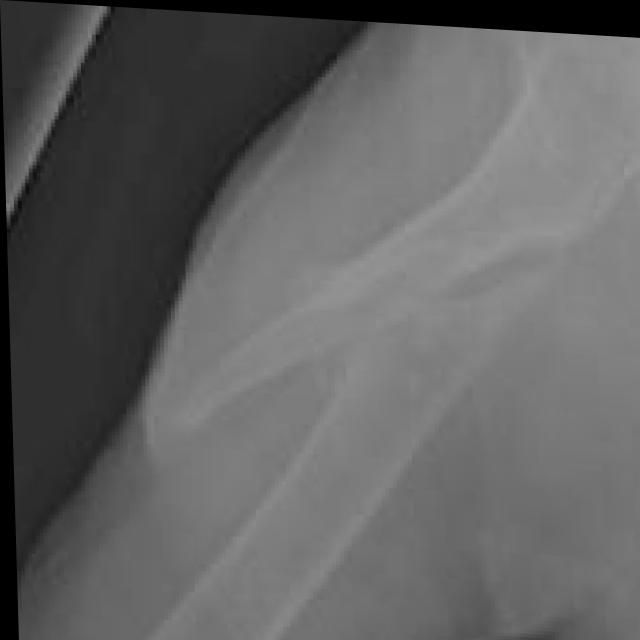fracture: (11, 18, 640, 640)
